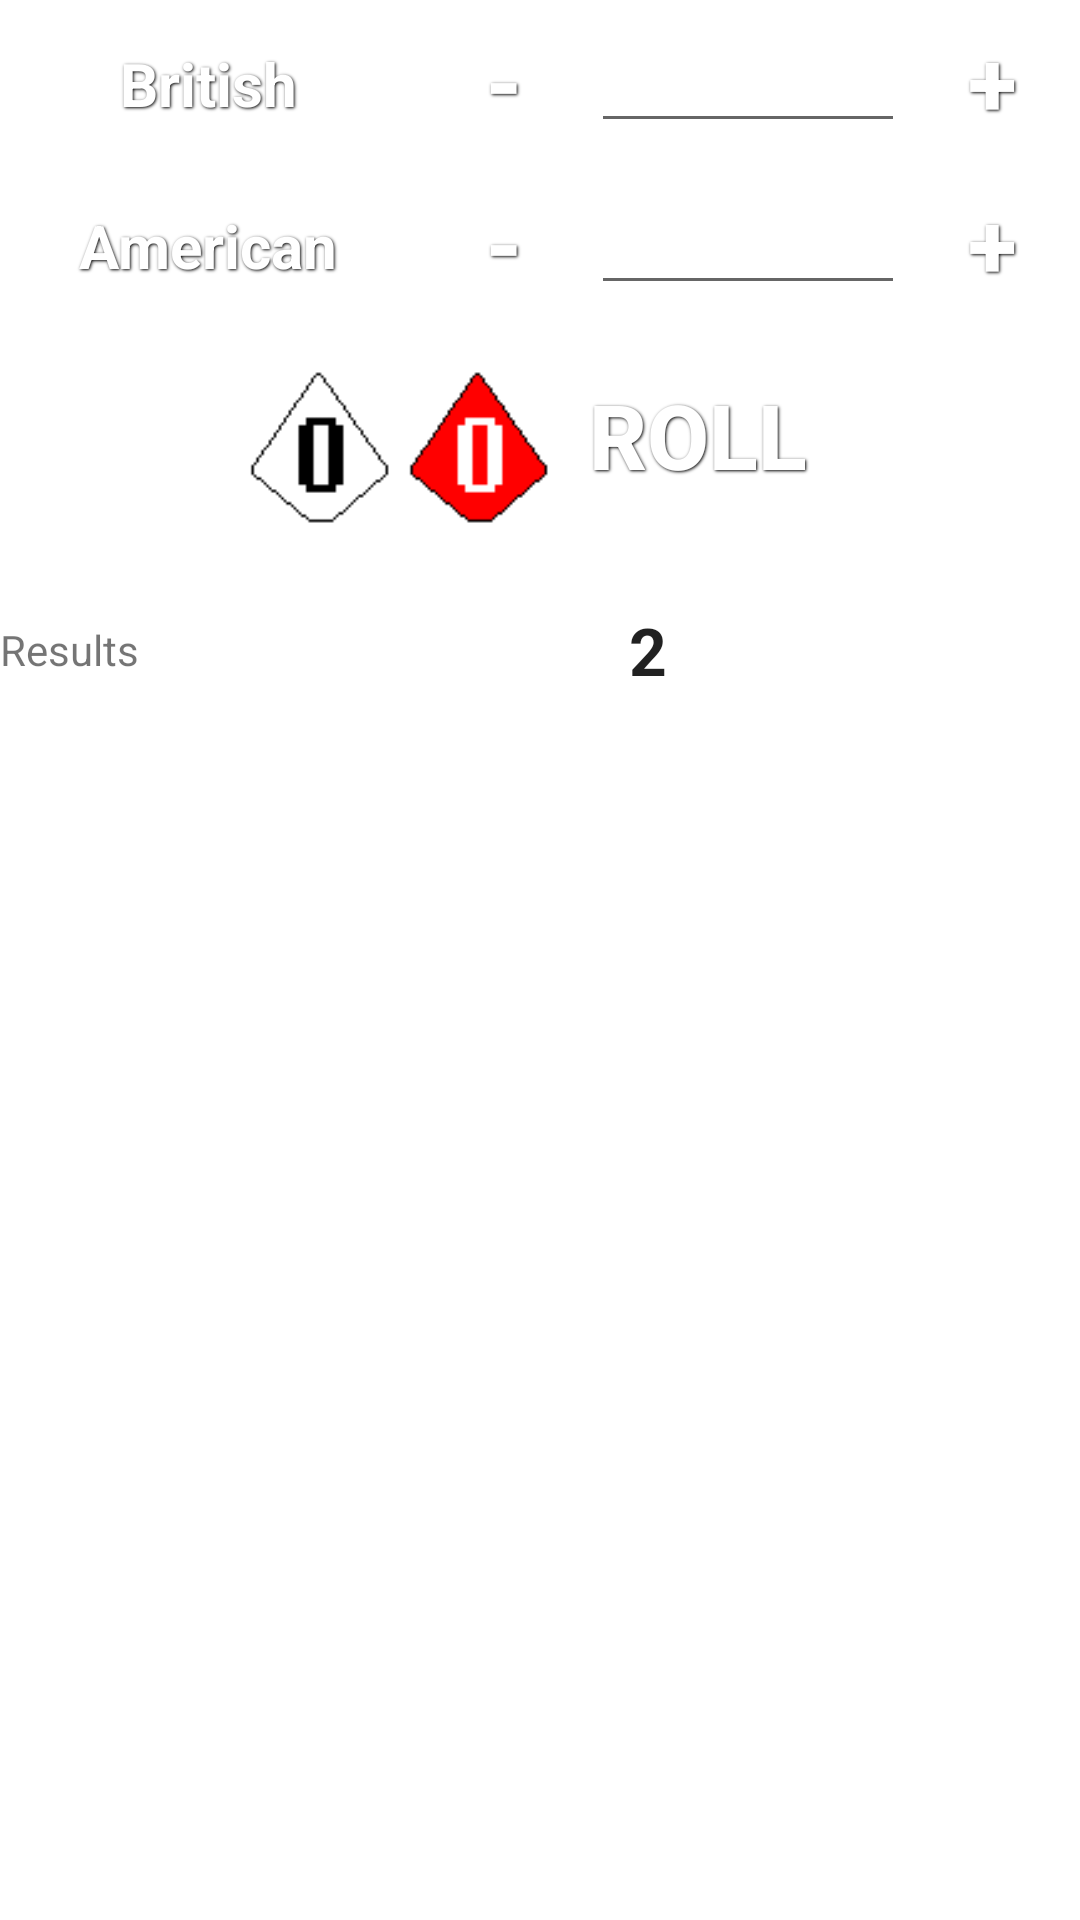

Screen size 1080×1920. Icon name, then its box in pixels as (x1, y1, x2, y2):
redw: (409, 372, 548, 523)
whiteb: (250, 372, 389, 523)
